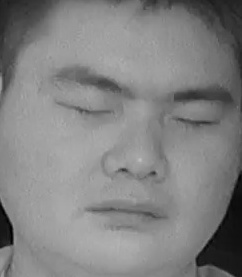blink: (53, 91, 117, 127), (170, 106, 221, 135)
mouth: (87, 186, 172, 239)
